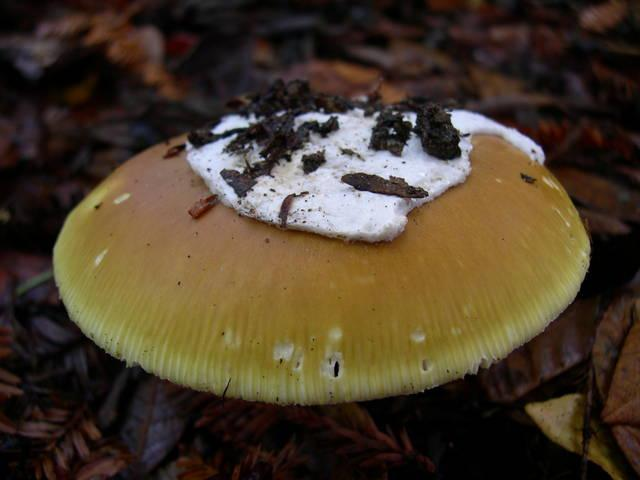Edible Mushroom: (51, 76, 592, 408)
